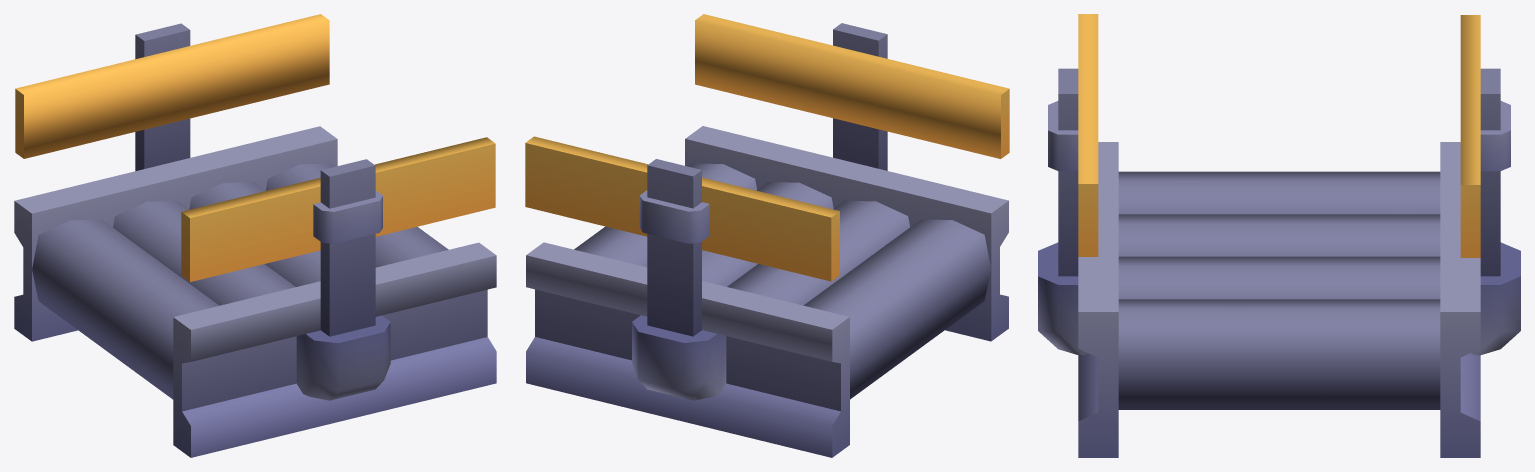
The model's file is conveyor-bars-fence.fbx.
The picture shows the model from 3 angles, left to right: view 1: azimuth 30°, elevation 25°; view 2: azimuth 150°, elevation 25°; view 3: azimuth 270°, elevation 25°; orthographic projection. The views are drawn at different scales.
Parts seen in each view (by area): view 1: conveyor-bars-fence; view 2: conveyor-bars-fence; view 3: conveyor-bars-fence.
Part boxes in pixels (x1,y1,x2,y2): conveyor-bars-fence: (14,14,496,457); conveyor-bars-fence: (525,14,1009,457); conveyor-bars-fence: (1038,14,1520,457).
Size of the model in its own units: 101 by 80 by 120.
Materials: 1 (1 with a texture image).
